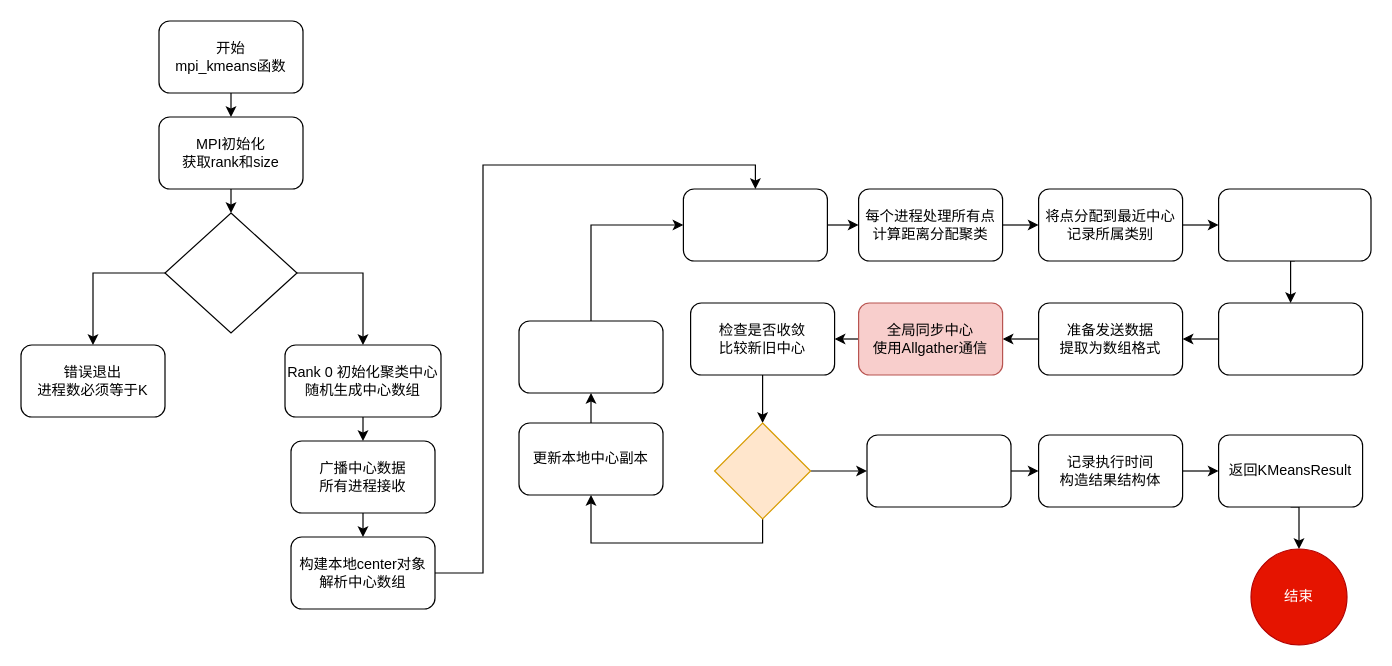
Image size: 1392x666. Some labels were removed from this diagram. The shapes that lost their labels are listed below. From the top down, each one's centre as x and y in pixels, then its label:
At pixel 754 224: "进入主循环 未收敛且未超迭代".
At pixel 1294 224: "每个进程计算负责中心 根据rank处理对应类".
At pixel 230 272: "进程数 == 聚类数？".
At pixel 590 356: "增加迭代次数".
At pixel 1290 338: "完成本地中心计算 求均值，统计点数".
At pixel 762 470: "是否收敛？".
At pixel 938 470: "统计聚类结果 更新每类点数".
